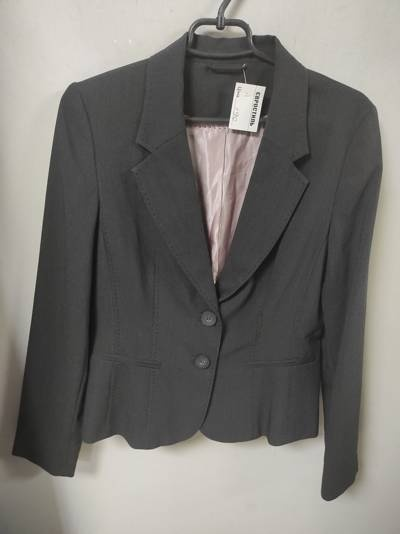Blazer: (15, 40, 397, 507)
